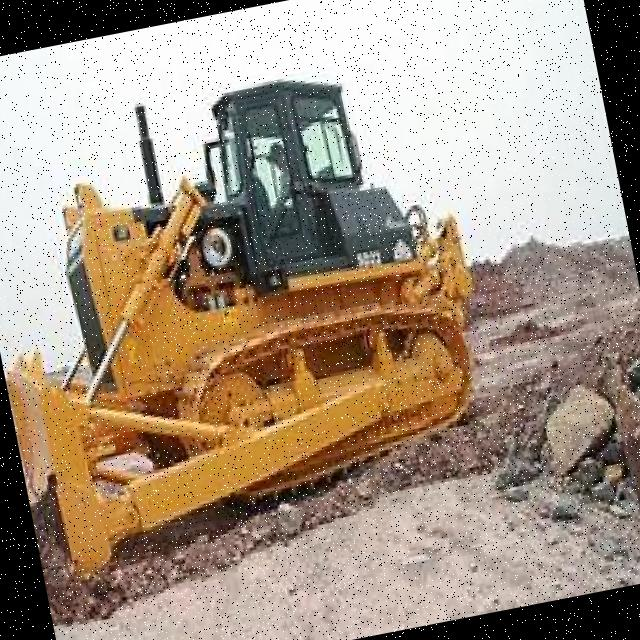Bulldozer: (0, 30, 527, 599)
